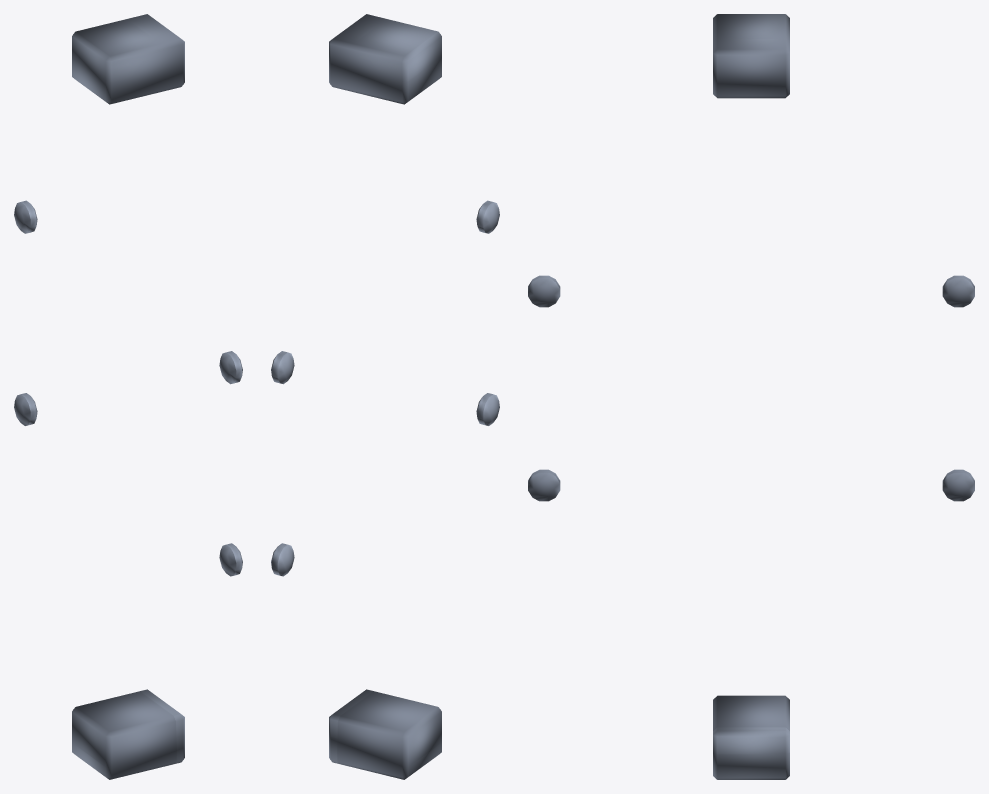
Rendered from Remache_BrazoDer_Acero.fbx.
3 views of the same model, side by side, from view 1: azimuth 30°, elevation 25°; view 2: azimuth 150°, elevation 25°; view 3: azimuth 270°, elevation 25° (orthographic).
Parts seen in each view (by area): view 1: Remache_BrazoDer_Acero; view 2: Remache_BrazoDer_Acero; view 3: Remache_BrazoDer_Acero.
Boxes of the visible parts, <box> form: Remache_BrazoDer_Acero: <box>14,14,242,779</box>; Remache_BrazoDer_Acero: <box>271,14,499,779</box>; Remache_BrazoDer_Acero: <box>528,14,974,779</box>.
Size of the model in its own units: 0.2143 by 1.87 by 1.04.
